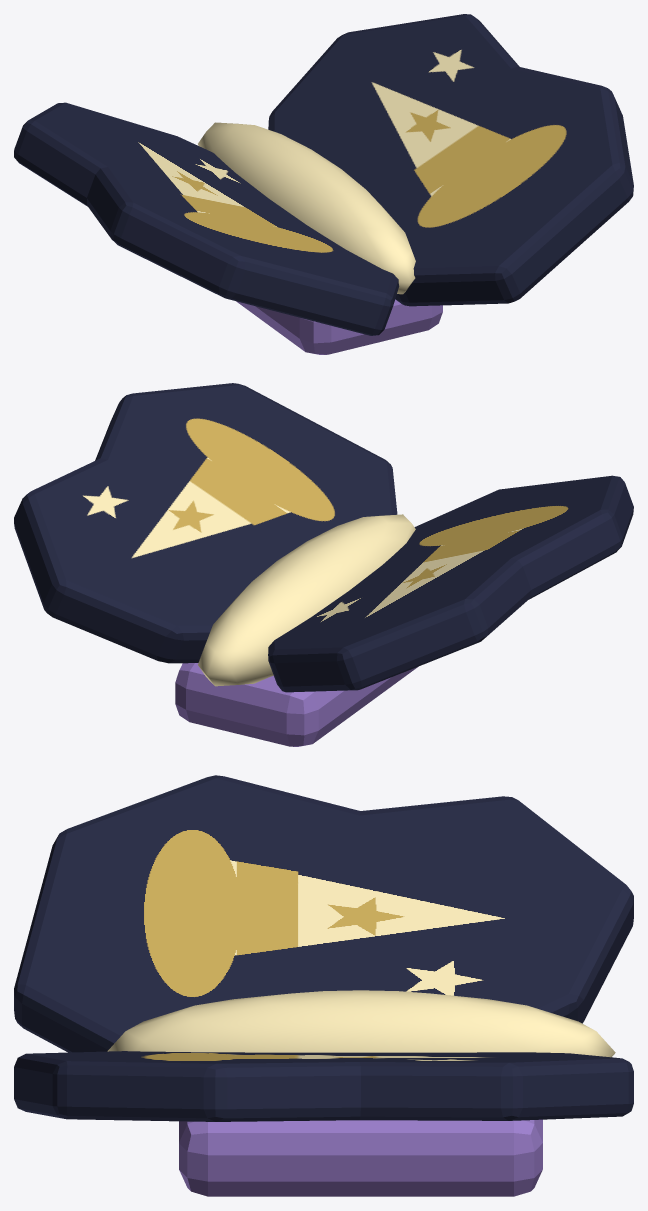
The model's file is ACC_TH_BUTTERFLY_GARDEN_Primary.fbx.
The picture shows the model from 3 angles, top to bottom: view 1: azimuth 30°, elevation 25°; view 2: azimuth 150°, elevation 25°; view 3: azimuth 270°, elevation 25°; orthographic projection. The views are drawn at different scales.
Visible parts, largest first — view 1: ACC_TH_BUTTERFLY_GARDEN_Primary; view 2: ACC_TH_BUTTERFLY_GARDEN_Primary; view 3: ACC_TH_BUTTERFLY_GARDEN_Primary.
Boxes of the visible parts, x1,y1,x2,y2 form: ACC_TH_BUTTERFLY_GARDEN_Primary: [14, 14, 633, 354]; ACC_TH_BUTTERFLY_GARDEN_Primary: [14, 383, 633, 746]; ACC_TH_BUTTERFLY_GARDEN_Primary: [14, 775, 633, 1196].
Size of the model in its own units: 101 by 36.95 by 85.14.
